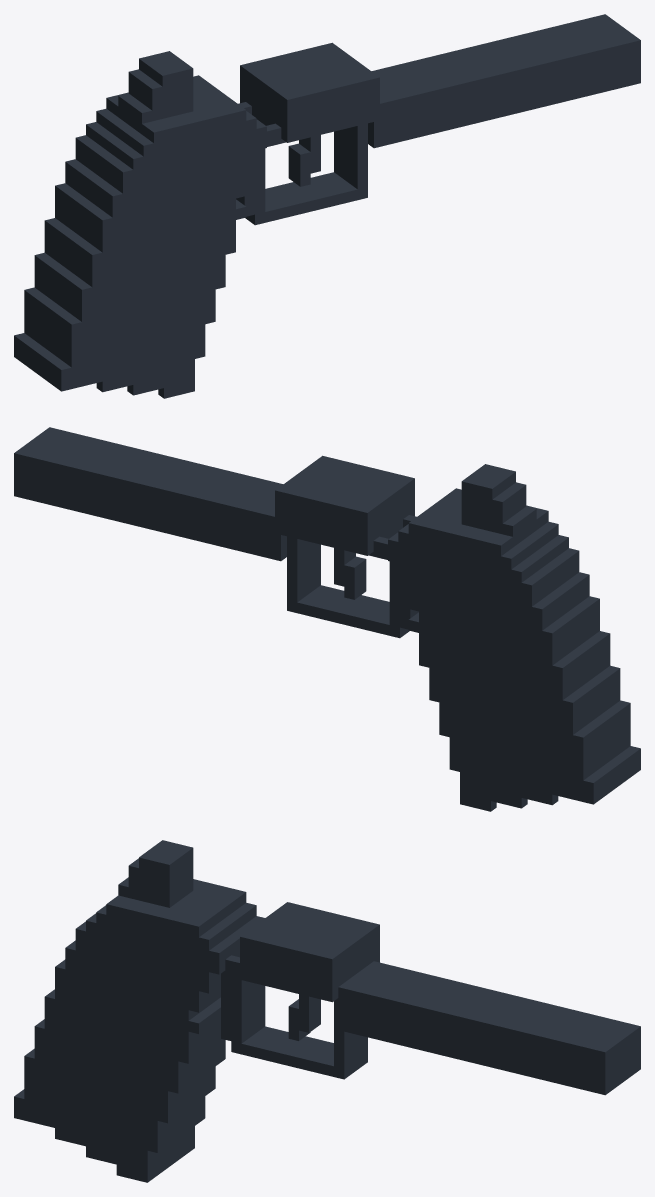
Rendered from pistol_frame.glb.
3 views of the same model, one above another, from view 1: azimuth 30°, elevation 25°; view 2: azimuth 150°, elevation 25°; view 3: azimuth 330°, elevation 25° (orthographic).
Parts seen in each view (by area): view 1: pistol_frame:frame; view 2: pistol_frame:frame; view 3: pistol_frame:frame.
Part boxes in pixels (x1,y1,x2,y2): pistol_frame:frame: [14, 14, 640, 398]; pistol_frame:frame: [14, 427, 640, 811]; pistol_frame:frame: [14, 840, 640, 1182].
Bounding box in the file's own units: 0.228 × 0.116 × 0.032.
